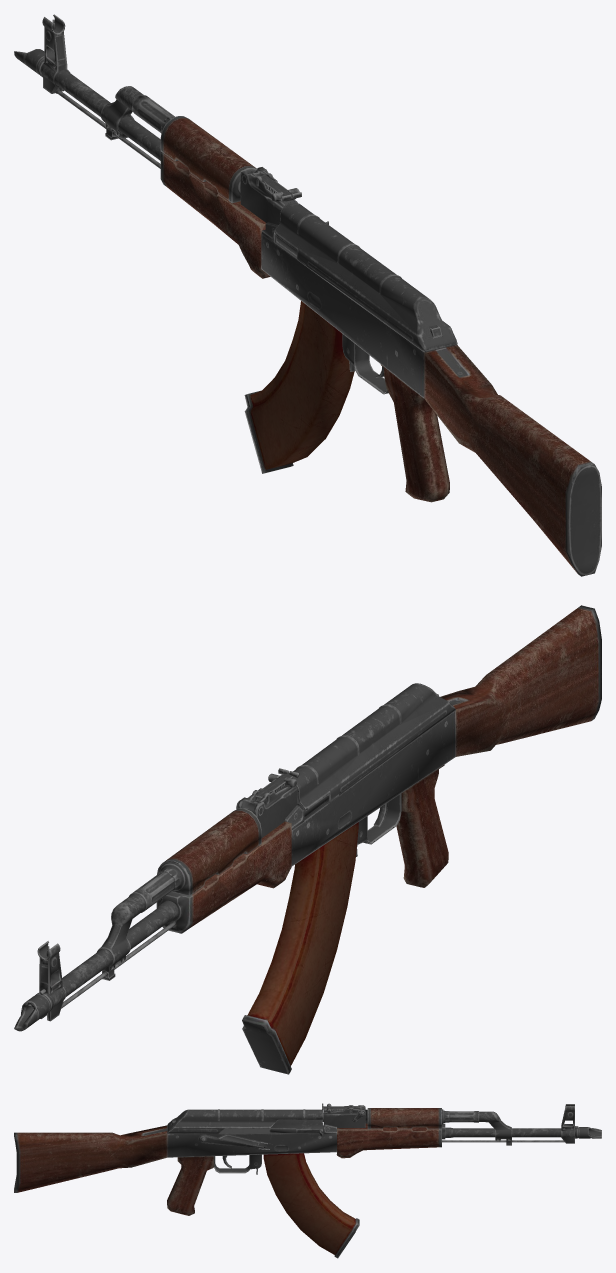
Rendered from field-akm.high.glb.
The picture shows the model from 3 angles, top to bottom: view 1: azimuth 30°, elevation 25°; view 2: azimuth 150°, elevation 25°; view 3: azimuth 270°, elevation 25°; orthographic projection. The views are drawn at different scales.
Parts seen in each view (by area): view 1: body, magazine; view 2: body, magazine; view 3: body, magazine, bolt.
Part boxes in pixels (x1,y1,x2,y2): body: (14, 14, 601, 576); magazine: (244, 301, 354, 473); body: (14, 605, 601, 1031); magazine: (242, 822, 358, 1074); body: (14, 1103, 601, 1215); magazine: (263, 1153, 359, 1258); bolt: (269, 1113, 323, 1136).
Size of the model in its own units: 0.0541 by 0.2738 by 0.9723.
Materials: 1 (1 with a texture image).
